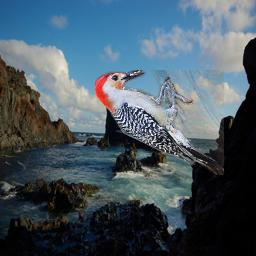Woodpecker: (95, 70, 224, 175)
